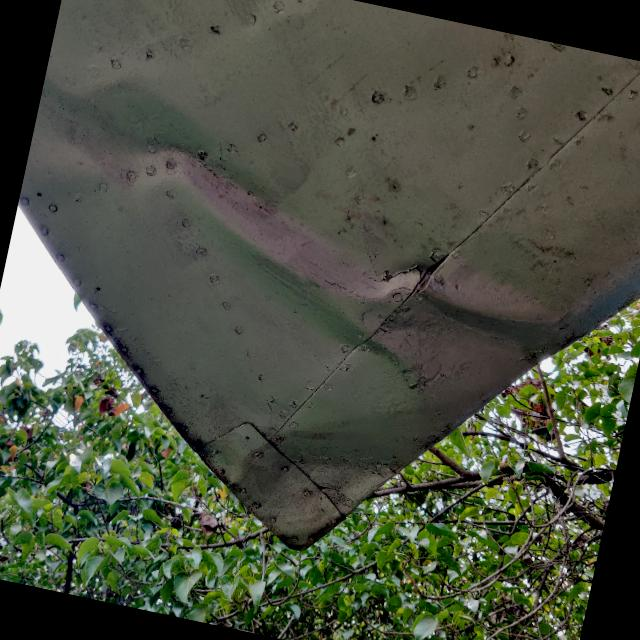dent: (0, 33, 635, 443), (218, 398, 422, 565)
